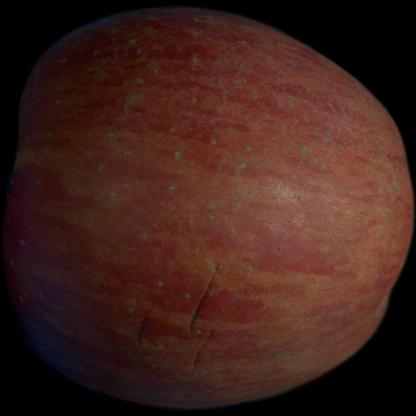defect: (122, 260, 236, 387)
